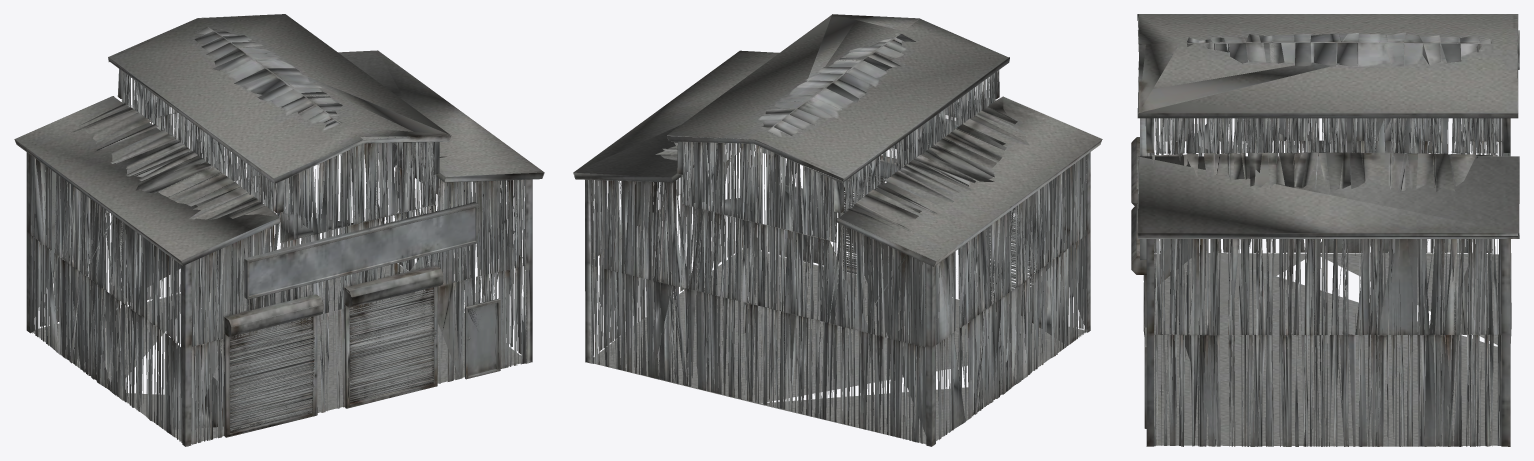
Rendered from shed-01-corrugated.glb.
The picture shows the model from 3 angles, left to right: view 1: azimuth 30°, elevation 25°; view 2: azimuth 150°, elevation 25°; view 3: azimuth 270°, elevation 25°; orthographic projection. The views are drawn at different scales.
Bounding box in the file's own units: 0.9482 × 0.6709 × 0.7671.
Materials: 1 (1 with a texture image).
